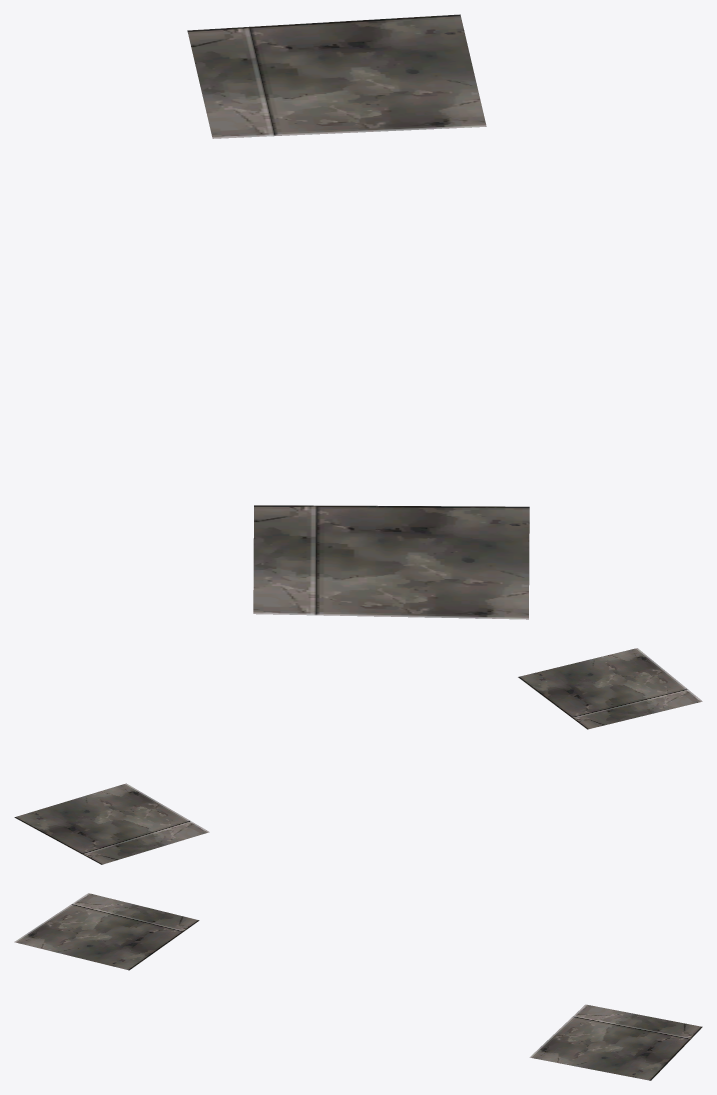
Rendered from CH09_SMAUG_PLAYSURFACE_LAIR141.fbx.
3 renders of one model, top to bottom at view 1: azimuth 30°, elevation 25°; view 2: azimuth 150°, elevation 25°; view 3: azimuth 270°, elevation 25°, orthographic. The views are drawn at different scales.
Parts seen in each view (by area): view 1: CH09_SMAUG_PLAYSURFACE_LAIR141; view 2: CH09_SMAUG_PLAYSURFACE_LAIR141; view 3: CH09_SMAUG_PLAYSURFACE_LAIR141.
Part boxes in pixels (x1,y1,x2,y2): CH09_SMAUG_PLAYSURFACE_LAIR141: [187, 14, 529, 619]; CH09_SMAUG_PLAYSURFACE_LAIR141: [14, 648, 702, 864]; CH09_SMAUG_PLAYSURFACE_LAIR141: [14, 893, 702, 1080].
Bounding box in the file's own units: 35502 × 0.0151 × 55037.
1 material, 1 textured.
